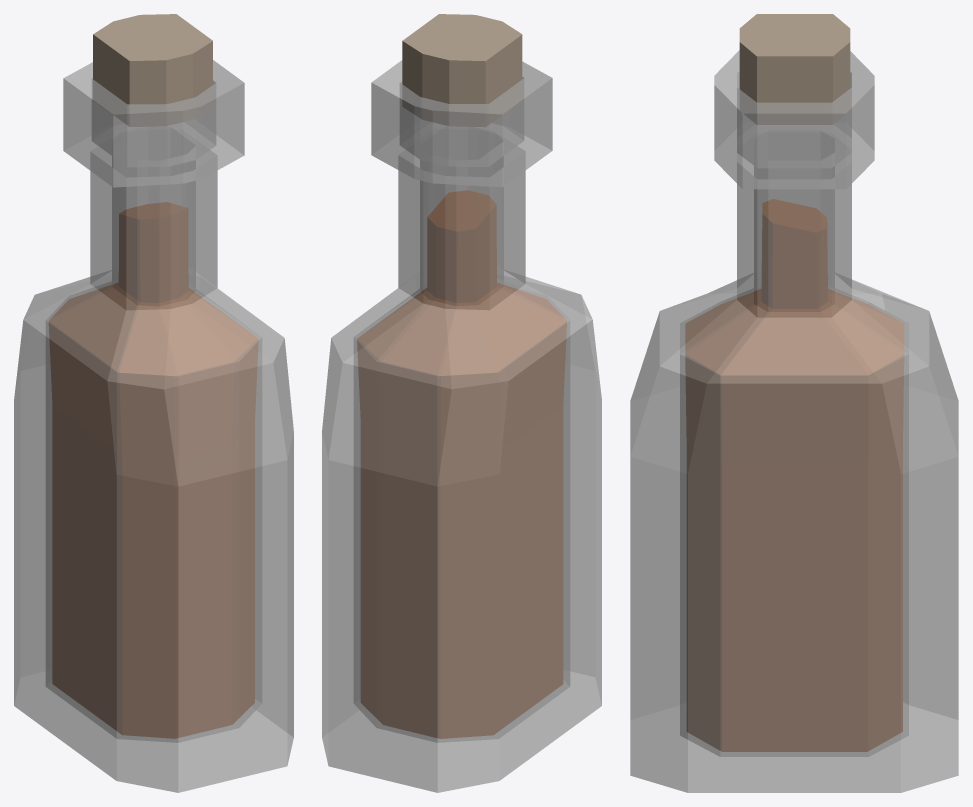
Rendered from jar_blood.fbx.
3 renders of one model, left to right at view 1: azimuth 30°, elevation 25°; view 2: azimuth 150°, elevation 25°; view 3: azimuth 270°, elevation 25°, orthographic. The views are drawn at different scales.
Parts seen in each view (by area): view 1: bottle, cork; view 2: bottle, cork; view 3: bottle, cork.
Part boxes in pixels (x1=…): bottle: x1=14, y1=60, x2=293, y2=792; cork: x1=93, y1=14, x2=212, y2=126; bottle: x1=322, y1=60, x2=601, y2=792; cork: x1=402, y1=14, x2=522, y2=126; bottle: x1=630, y1=50, x2=958, y2=792; cork: x1=739, y1=14, x2=850, y2=124.
Size of the model in its own units: 0.1187 by 0.4375 by 0.1829.
